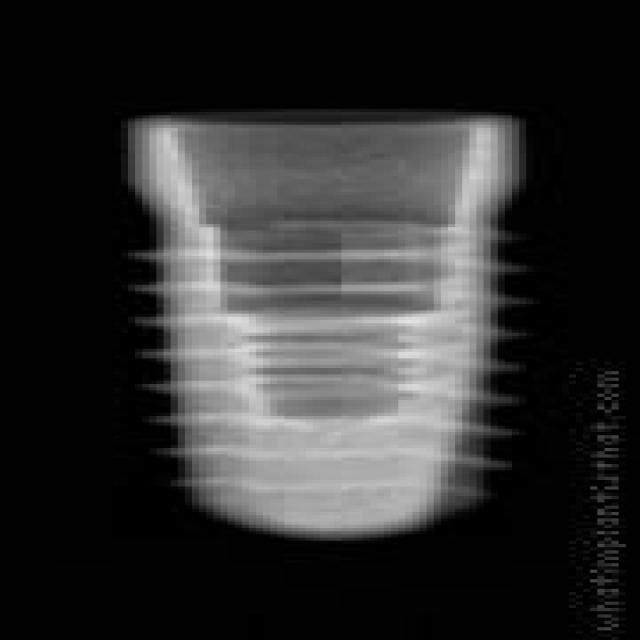Root canal obturation: (121, 112, 526, 538)
